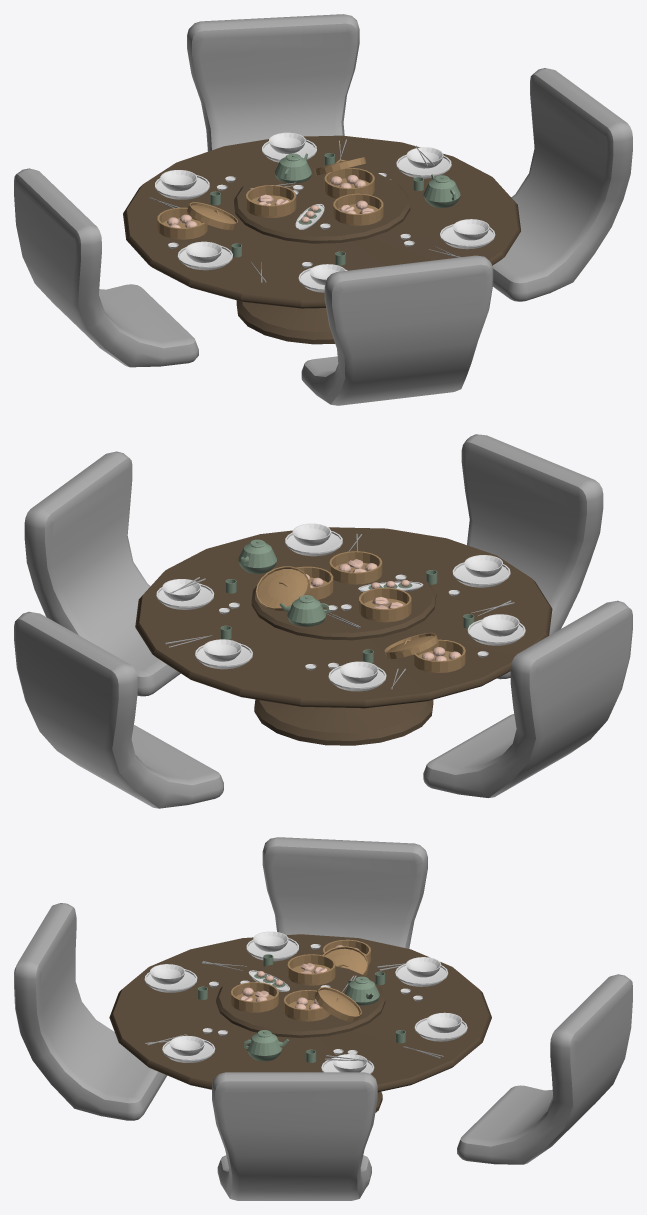
Rendered from Table_1.fbx.
3 renders of one model, top to bottom at view 1: azimuth 30°, elevation 25°; view 2: azimuth 150°, elevation 25°; view 3: azimuth 270°, elevation 25°, orthographic. The views are drawn at different scales.
Visible parts, largest first — view 1: Table1, Chair3, Chair, Chair1, Chair2, Plates, Steamer, Teapots, Dumplings; view 2: Table1, Chair1, Chair2, Chair, Chair3, Plates, Steamer, Teapots, Dumplings, Sauce; view 3: Table1, Chair, Chair3, Chair2, Chair1, Plates, Steamer, Teapots, Dumplings.
Part boxes in pixels (x1,y1,x2,y2): Table1: (123,135,520,344); Chair3: (301,255,493,405); Chair: (492,68,632,301); Chair1: (187,14,359,151); Chair2: (14,168,198,367); Plates: (155,132,495,292); Steamer: (157,157,383,239); Teapots: (210,153,460,265); Dumplings: (167,175,374,227); Table1: (135,527,552,745); Chair1: (14,611,223,808); Chair2: (423,600,632,797); Chair: (24,451,180,696); Chair3: (461,434,603,679); Plates: (156,523,525,691); Steamer: (256,551,465,672); Teapots: (220,539,474,663); Dumplings: (306,559,460,660); Sauce: (219,574,488,670); Table1: (109,934,491,1112); Chair: (212,1072,377,1200); Chair3: (14,903,167,1120); Chair2: (262,837,427,948); Chair1: (457,974,632,1164); Plates: (144,931,467,1073); Steamer: (231,939,370,1021); Teapots: (197,954,405,1062); Dumplings: (239,945,358,1009).
Size of the model in its own units: 12.53 by 3.49 by 13.28.
